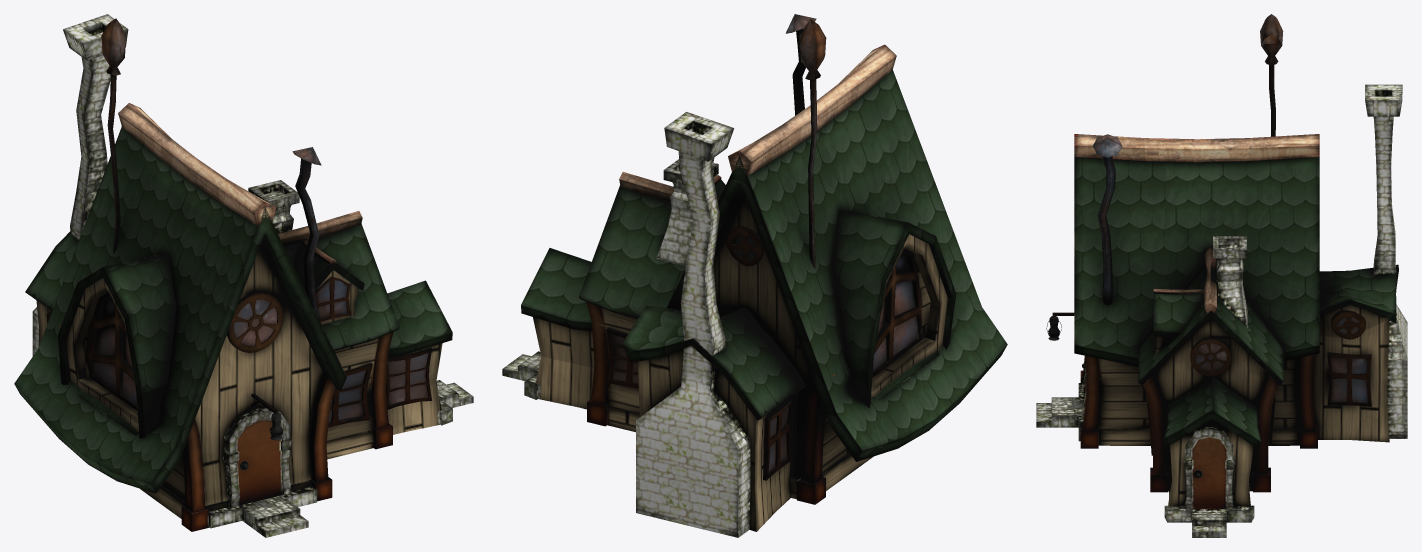
The model's file is background_house3.glb.
The picture shows the model from 3 angles, left to right: view 1: azimuth 30°, elevation 25°; view 2: azimuth 150°, elevation 25°; view 3: azimuth 270°, elevation 25°; orthographic projection. The views are drawn at different scales.
Parts seen in each view (by area): view 1: witch_house_low; view 2: witch_house_low; view 3: witch_house_low.
Boxes of the visible parts, x1=… form: witch_house_low: x1=14, y1=14, x2=473, y2=537; witch_house_low: x1=502, y1=14, x2=1007, y2=537; witch_house_low: x1=1036, y1=14, x2=1407, y2=537.
Bounding box in the file's own units: 1.05 × 1.11 × 0.9667.
Materials: 1 (1 with a texture image).
